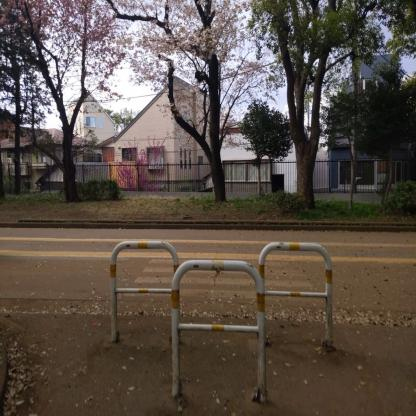Someiyoshino: (128, 1, 294, 114), (0, 0, 122, 103)
